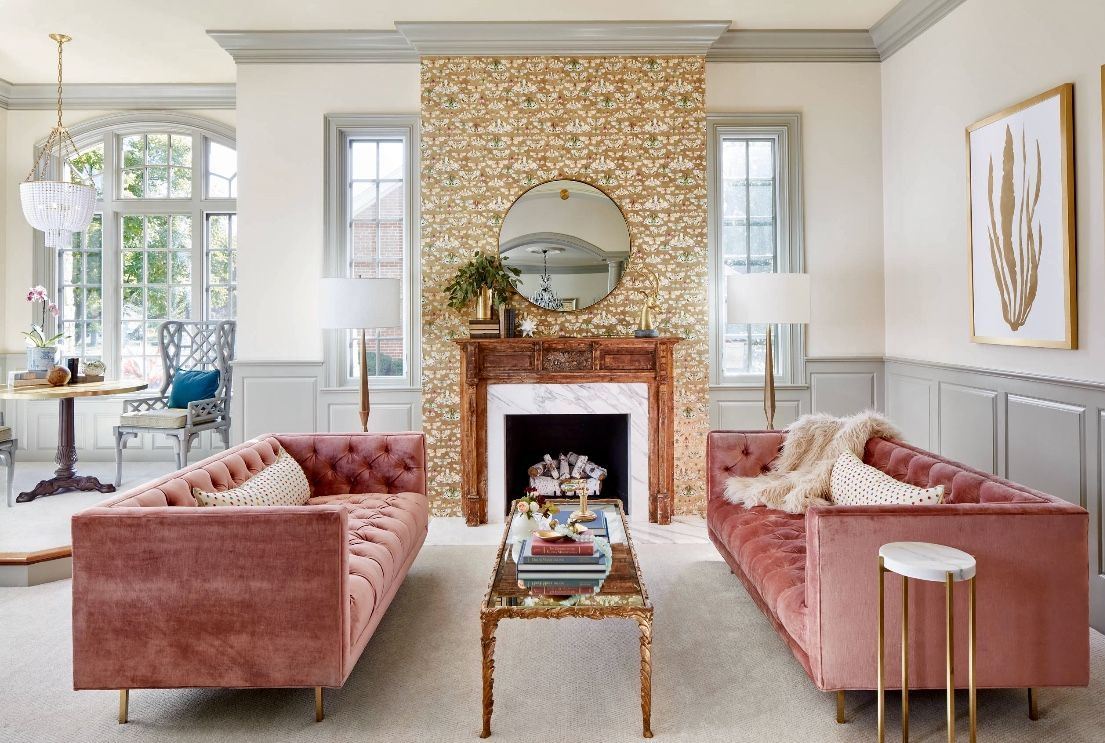biru: (172, 369, 208, 405)
pink: (708, 429, 1090, 689), (77, 429, 431, 673)
putih: (15, 187, 92, 247), (874, 543, 981, 582)
